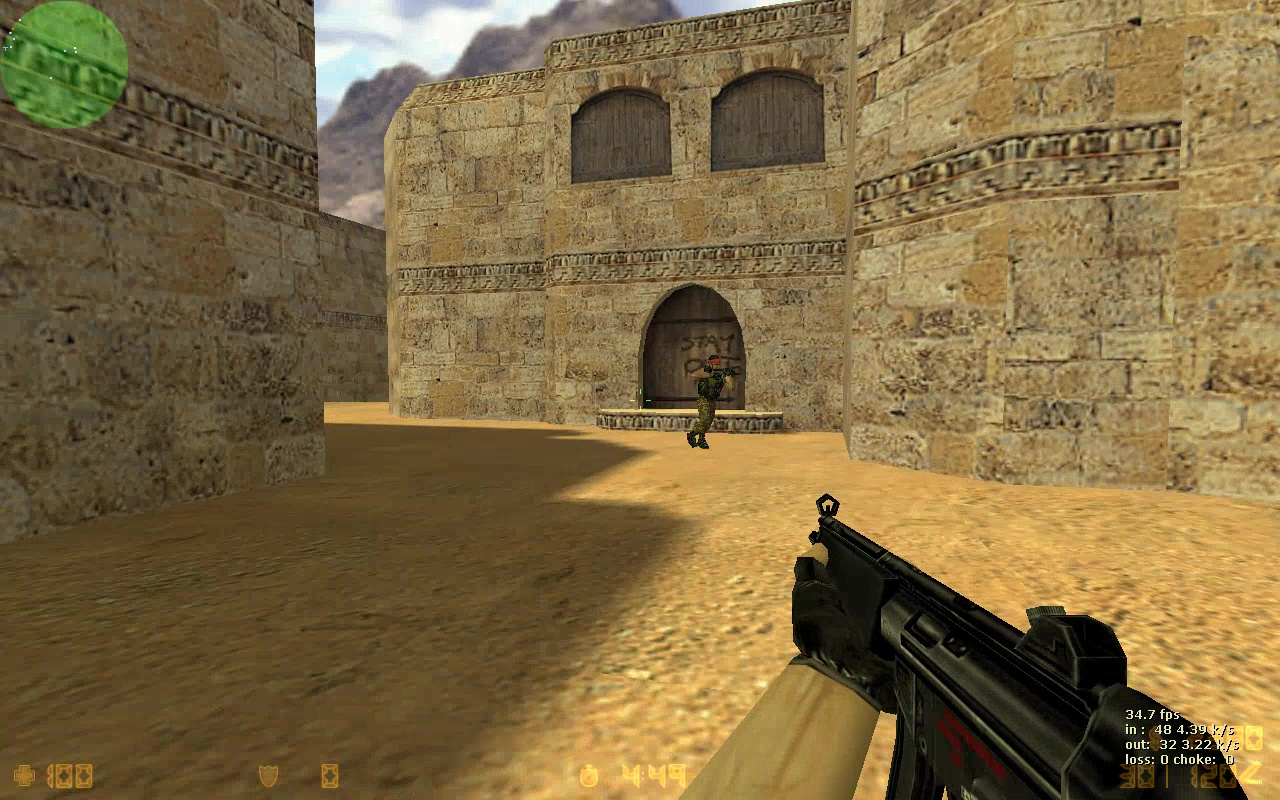terr1: (681, 354, 733, 447)
